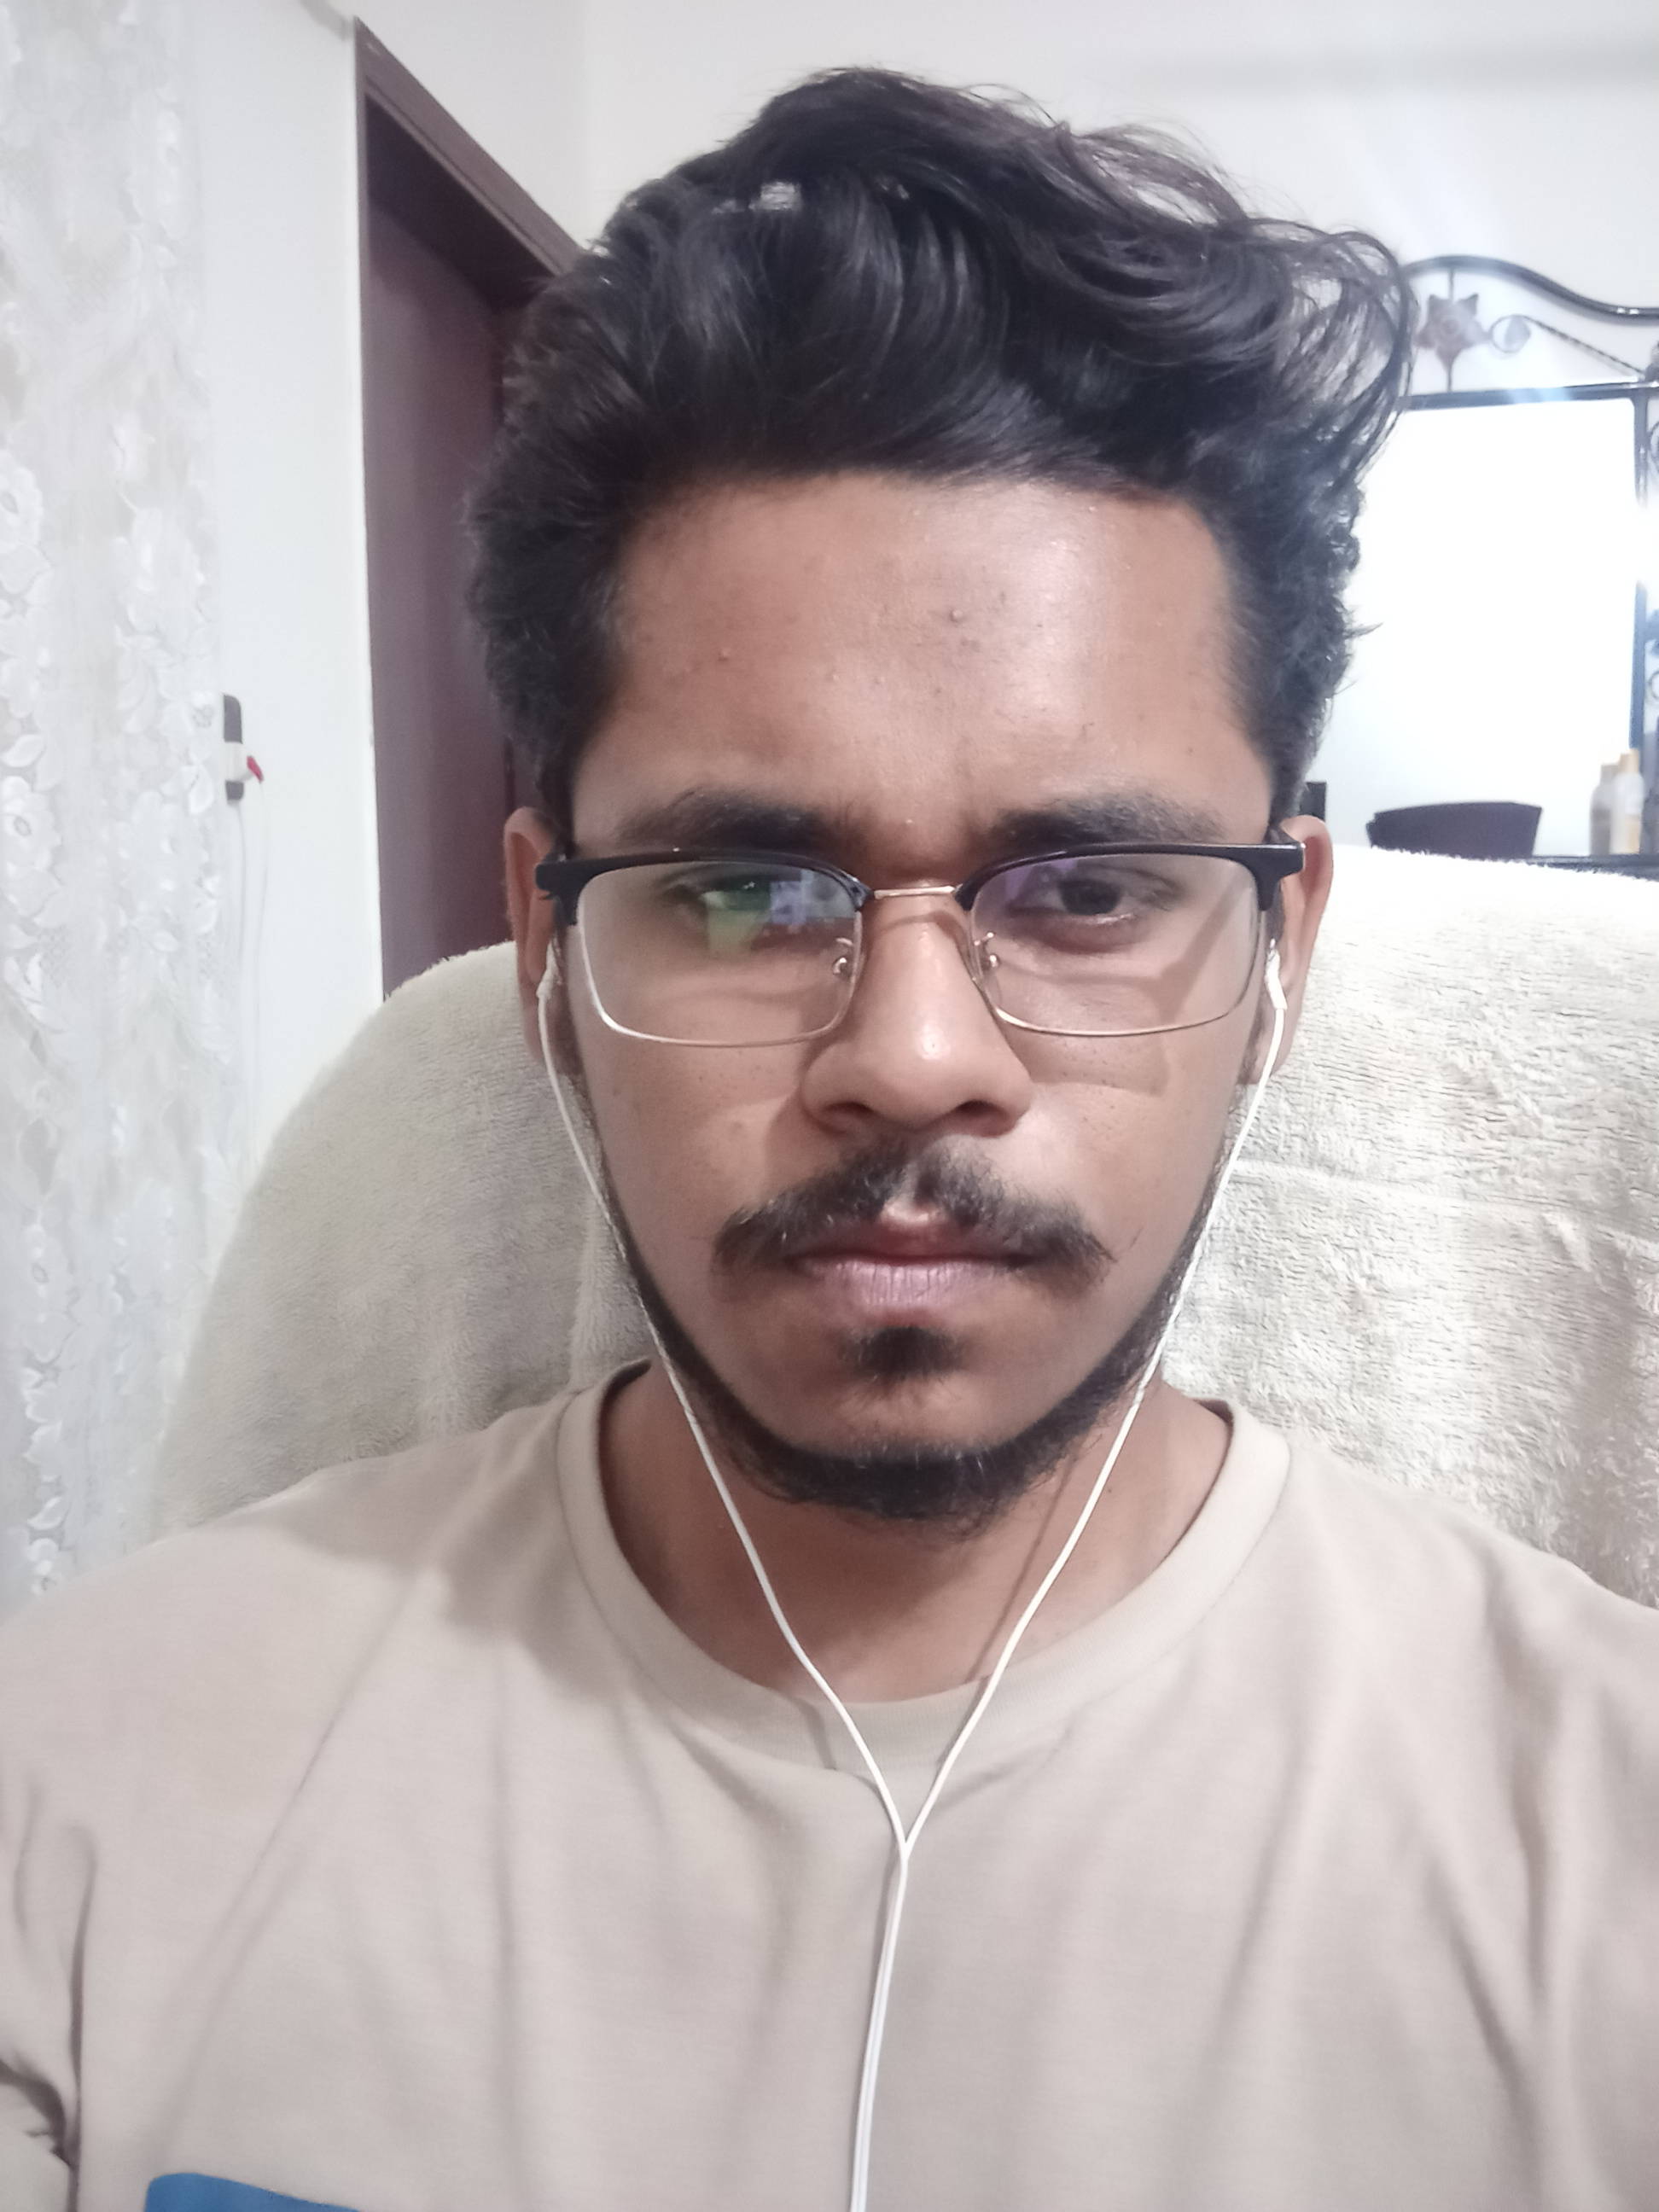NoMask: (594, 744, 1246, 1495)
